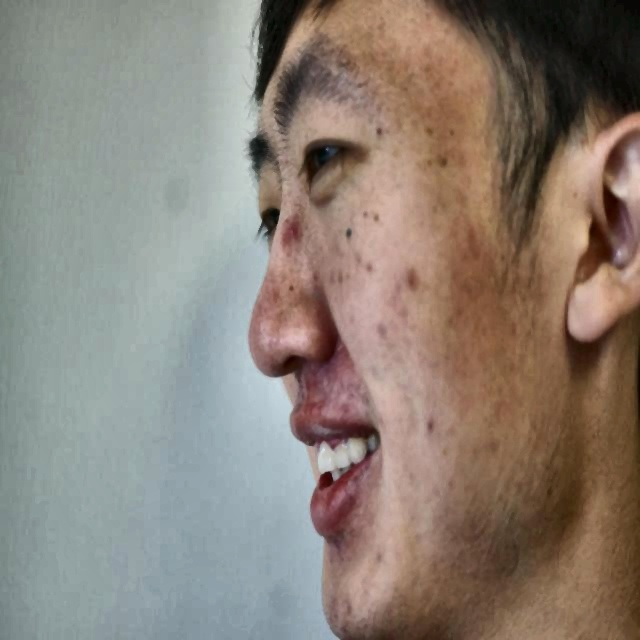comedone: (404, 258, 421, 304), (284, 212, 305, 248)
